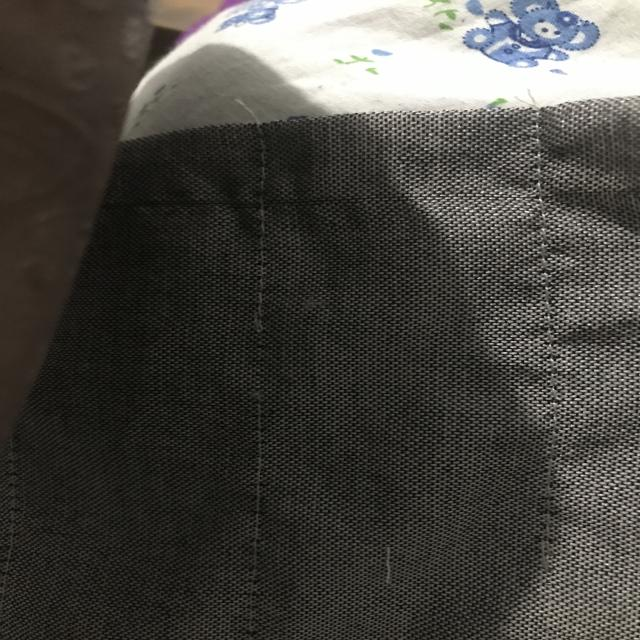broken: (236, 308, 276, 415)
good: (248, 208, 271, 284)
